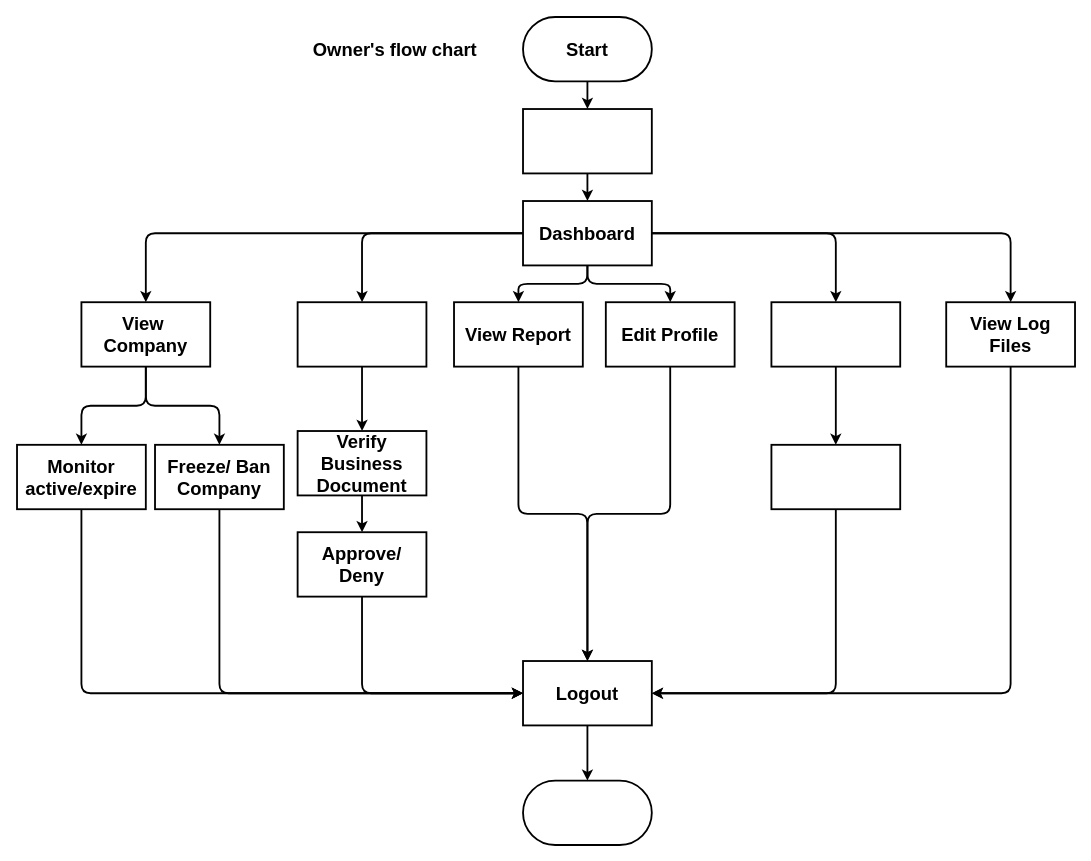
This 1091x861 diagram has some shape labels left out. Each missing label, with the centre of its shape:
"Add / Delete account" goes at [835,476].
"End" goes at [587,812].
"Login" goes at [587,141].
"Manage admin account" goes at [835,334].
"View Requests" goes at [361,334].
